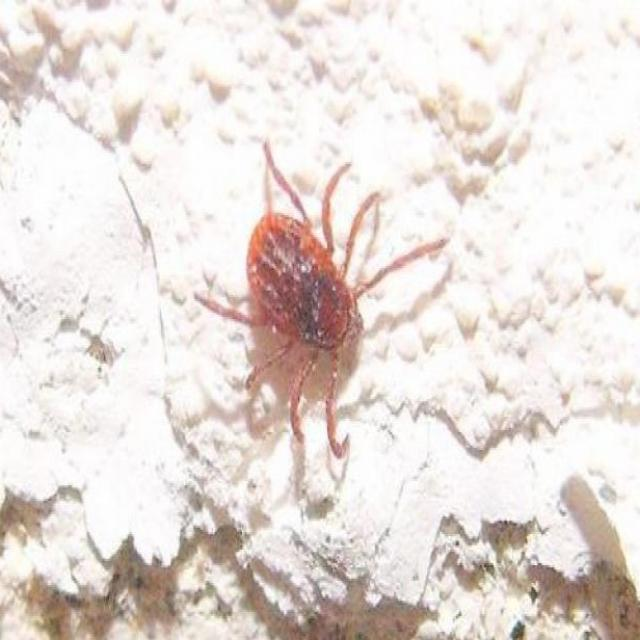Rhipicephalus Sanguineus-F: (193, 142, 450, 501)
